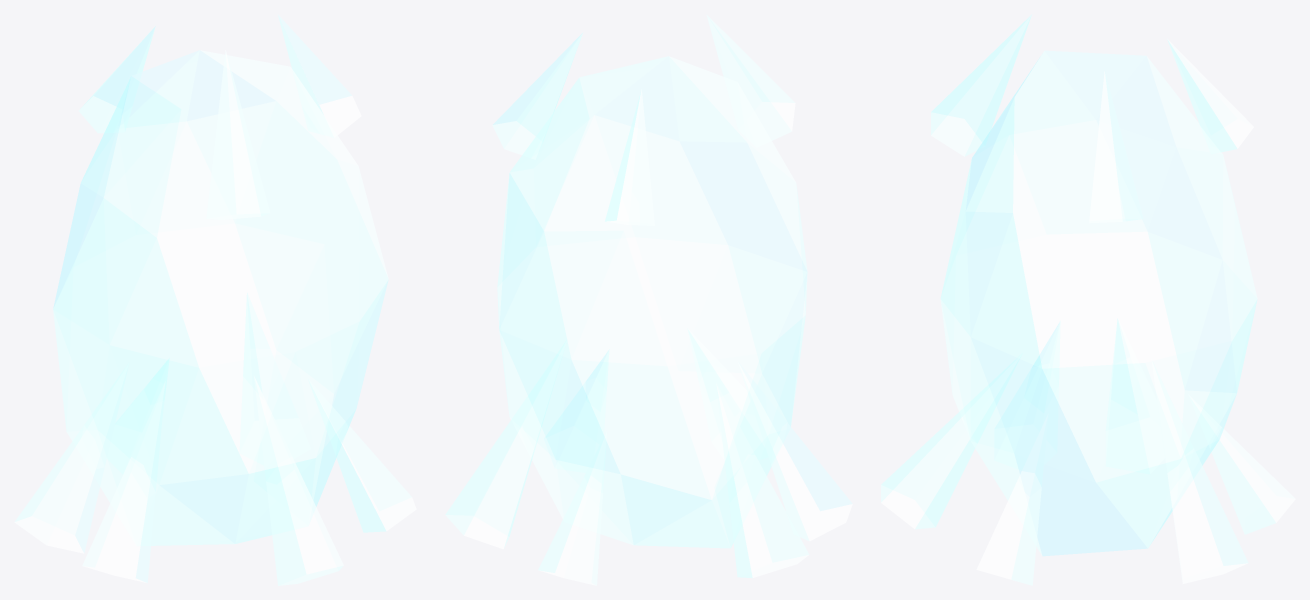
File: ice_shell.glb
3 renders of one model, left to right at view 1: azimuth 30°, elevation 25°; view 2: azimuth 150°, elevation 25°; view 3: azimuth 270°, elevation 25°, orthographic.
Visible parts, largest first — view 1: ice_shell; view 2: ice_shell; view 3: ice_shell.
Part boxes in pixels (left/top/right/bottom): ice_shell: left=14, top=15, right=416, bottom=585; ice_shell: left=445, top=15, right=852, bottom=585; ice_shell: left=881, top=14, right=1295, bottom=585.
Bounding box in the file's own units: 1.43 × 2.18 × 1.58.
